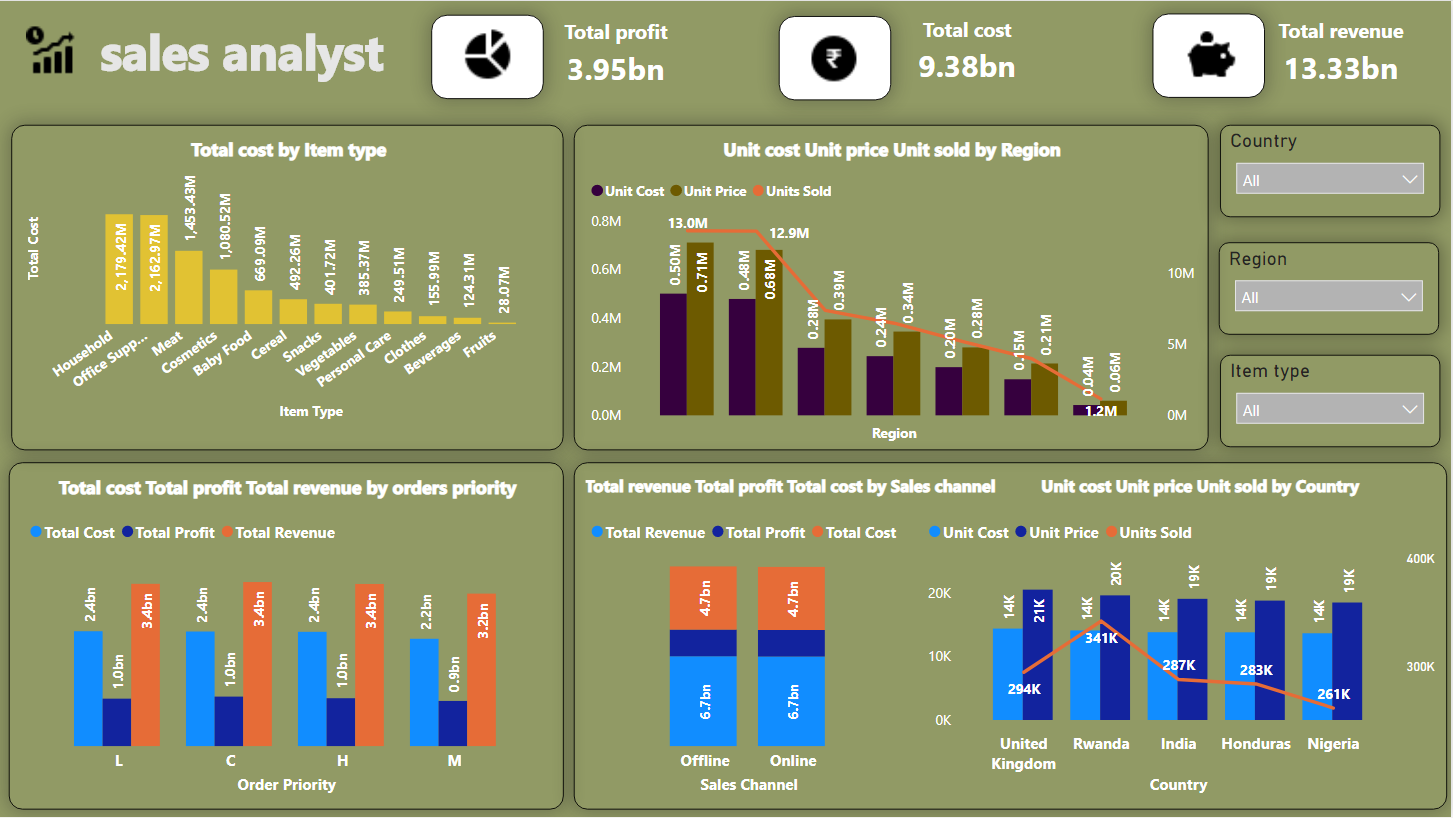

Layout of this report page (visuals, bound fields, positions):
{"tool":"powerbi","page":{"name":"sales report analysis","canvas":[1280,720],"ordinal":0},"visuals":[{"type":"textbox","box":[380.8,11.9,98.9,74.5],"z":0},{"type":"textbox","box":[686.7,12.7,98.9,74.5],"z":1000},{"type":"textbox","box":[1017,10.6,98.9,74.5],"z":2000},{"type":"textbox","box":[83.8,10.5,308.4,71],"z":3000},{"type":"image","box":[8.1,17.5,76.8,57],"z":4000},{"type":"image","box":[392.6,19.1,75.6,59.3],"z":5000},{"type":"image","box":[698.3,20.9,75.6,59.3],"z":6000},{"type":"image","box":[1031,18.8,75.6,58.2],"z":7000},{"type":"card","title":"Total profit","fields":{"Values":["Sum(sales analys.Total Profit)"]},"box":[476.4,15.6,133.8,67.5],"z":8000},{"type":"card","title":"Total cost","fields":{"Values":["Sum(sales analys.Total Cost)"]},"box":[785.6,12.8,133.8,67.5],"z":9000},{"type":"card","title":"Total revenue","fields":{"Values":["Sum(sales analys.Total Revenue)"]},"box":[1116.1,14.2,133.8,67.5],"z":10000},{"type":"textbox","box":[10.5,109.4,487.6,287.4],"z":11000},{"type":"slicer","title":"Region","fields":{"Values":["sales analys.Region"]},"box":[1075.2,212.9,194.3,81.5],"z":12000},{"type":"slicer","title":"Item type","fields":{"Values":["sales analys.Item Type"]},"box":[1076.4,311.9,194.3,81.5],"z":13000},{"type":"slicer","title":"Country","fields":{"Values":["sales analys.Country"]},"box":[1076.4,109.4,194.3,81.5],"z":14000},{"type":"columnChart","fields":{"Category":["sales analys.Item Type"],"Y":["Sum(sales analys.Total Cost)"]},"box":[19.5,137.5,452.7,236.2],"z":15000},{"type":"textbox","box":[8.1,407.3,489.9,306],"z":16000},{"type":"lineClusteredColumnComboChart","fields":{"Category":["sales analys.Order Priority"],"Y":["Sum(sales analys.Total Cost)","Sum(sales analys.Total Profit)","Sum(sales analys.Total Revenue)"]},"box":[20.9,448,464.3,256],"z":17000},{"type":"textbox","box":[506.2,407.3,770.3,306],"z":18000},{"type":"lineClusteredColumnComboChart","fields":{"Category":["sales analys.Region"],"Y":["Sum(sales analys.Unit Cost)","Sum(sales analys.Unit Price)"],"Y2":["Sum(sales analys.Units Sold)"]},"box":[515.5,147.8,542.3,245.5],"z":19000},{"type":"textbox","box":[506.1,110.3,560.1,287.8],"z":20000},{"type":"lineStackedColumnComboChart","fields":{"Category":["sales analys.Sales Channel"],"Y":["Sum(sales analys.Total Revenue)","Sum(sales analys.Total Profit)","Sum(sales analys.Total Cost)"]},"box":[515.5,448,289.7,256],"z":21000},{"type":"lineClusteredColumnComboChart","fields":{"Category":["sales analys.Country"],"Y":["Sum(sales analys.Unit Cost)","Sum(sales analys.Unit Price)"],"Y2":["Sum(sales analys.Units Sold)"]},"box":[813.4,448,457.3,256],"z":22000}]}

Visuals, with their boxes in screenshot pixels (x1, y1, x2, y2), scaled from the page's 1280x720 canvas onto the 1453x818 screenshot:
textbox: x1=432 y1=14 x2=545 y2=98
textbox: x1=780 y1=14 x2=892 y2=99
textbox: x1=1154 y1=12 x2=1267 y2=97
textbox: x1=95 y1=12 x2=445 y2=93
image: x1=9 y1=20 x2=96 y2=85
image: x1=446 y1=22 x2=531 y2=89
image: x1=793 y1=24 x2=878 y2=91
image: x1=1170 y1=21 x2=1256 y2=87
"Total profit" card: x1=541 y1=18 x2=693 y2=94
"Total cost" card: x1=892 y1=15 x2=1044 y2=91
"Total revenue" card: x1=1267 y1=16 x2=1419 y2=93
textbox: x1=12 y1=124 x2=565 y2=451
"Region" slicer: x1=1221 y1=242 x2=1441 y2=334
"Item type" slicer: x1=1222 y1=354 x2=1442 y2=447
"Country" slicer: x1=1222 y1=124 x2=1442 y2=217
columnChart - sales analys.Item Type x Sum(sales analys.Total Cost): x1=22 y1=156 x2=536 y2=425
textbox: x1=9 y1=463 x2=565 y2=810
lineClusteredColumnComboChart - sales analys.Order Priority x Sum(sales analys.Total Cost): x1=24 y1=509 x2=551 y2=800
textbox: x1=575 y1=463 x2=1449 y2=810
lineClusteredColumnComboChart - sales analys.Region x Sum(sales analys.Unit Cost): x1=585 y1=168 x2=1201 y2=447
textbox: x1=575 y1=125 x2=1210 y2=452
lineStackedColumnComboChart - sales analys.Sales Channel x Sum(sales analys.Total Revenue): x1=585 y1=509 x2=914 y2=800
lineClusteredColumnComboChart - sales analys.Country x Sum(sales analys.Unit Cost): x1=923 y1=509 x2=1442 y2=800
